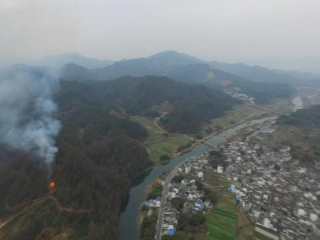smoke: (2, 59, 66, 177)
